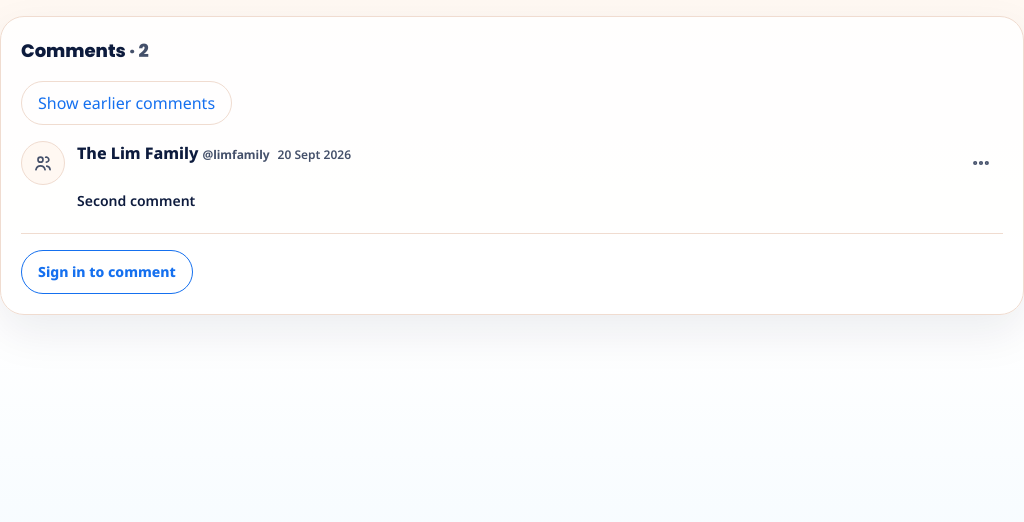
Test: Moment Comments › keeps loaded rows after an earlier-page error and prepends a retry
The image size is (1024, 522).
Click the button "Show earlier comments". click: (127, 103)
box: [21,81,232,125]
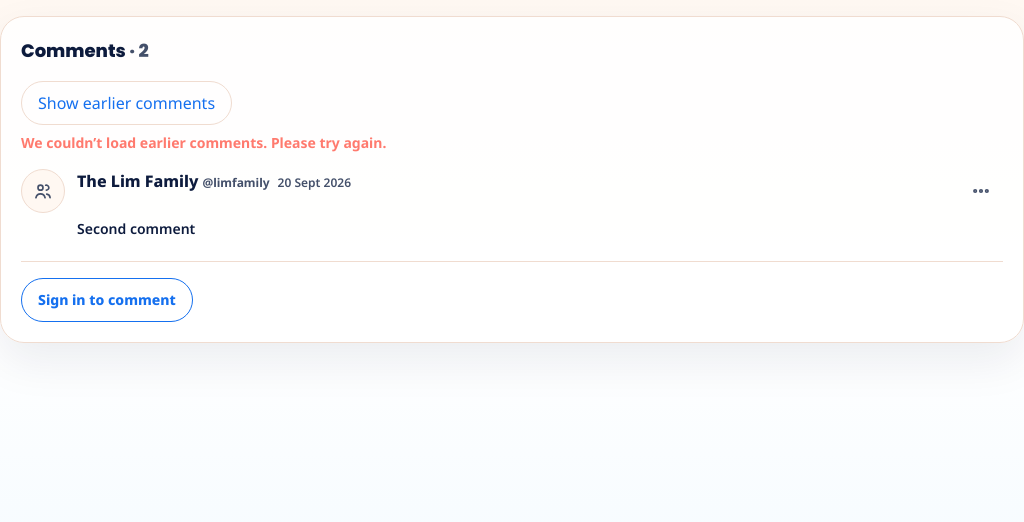
Check: the text "Second comment" is shown, box [77,219,195,238]
Check: the text "We couldn’t load earlier comments. Please try again." is shown, box [21,133,386,152]
Click the button "Show earlier comments". click: (127, 103)
box: [21,81,232,125]
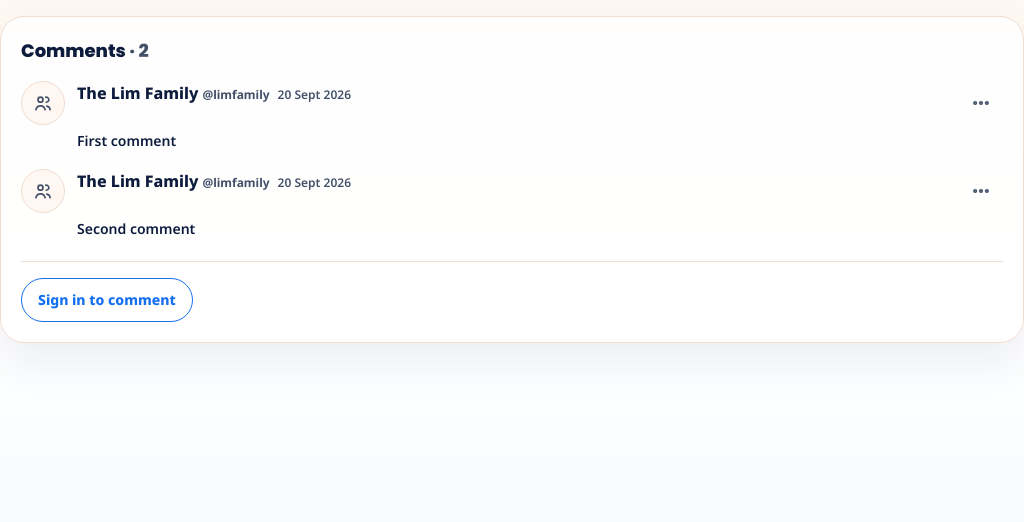
Check: the text "First comment" is shown, box [77,131,176,150]
